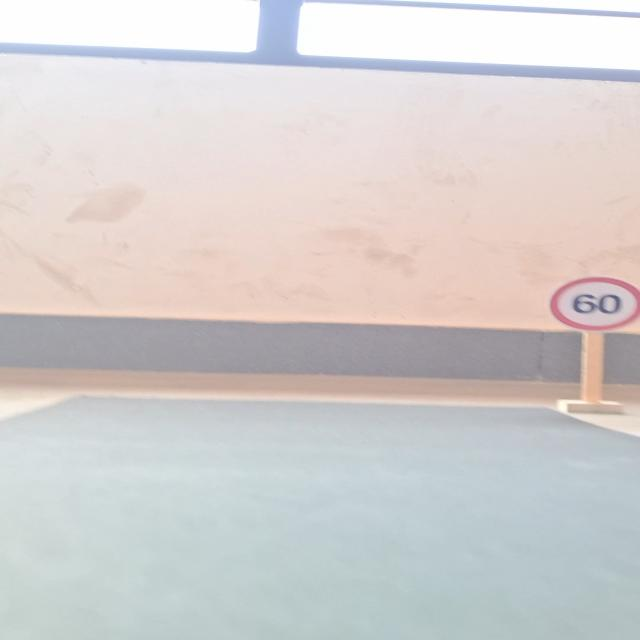Speed60: (547, 274, 640, 335)
